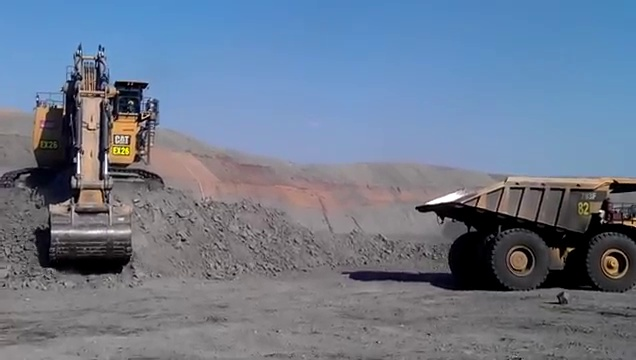dumper: (414, 174, 635, 293)
excavator: (33, 43, 164, 262)
